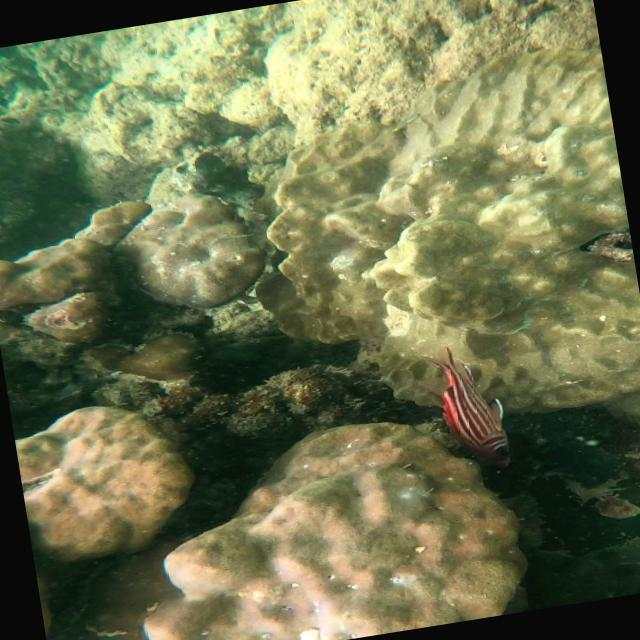Asker Baligi: (416, 334, 524, 471)
